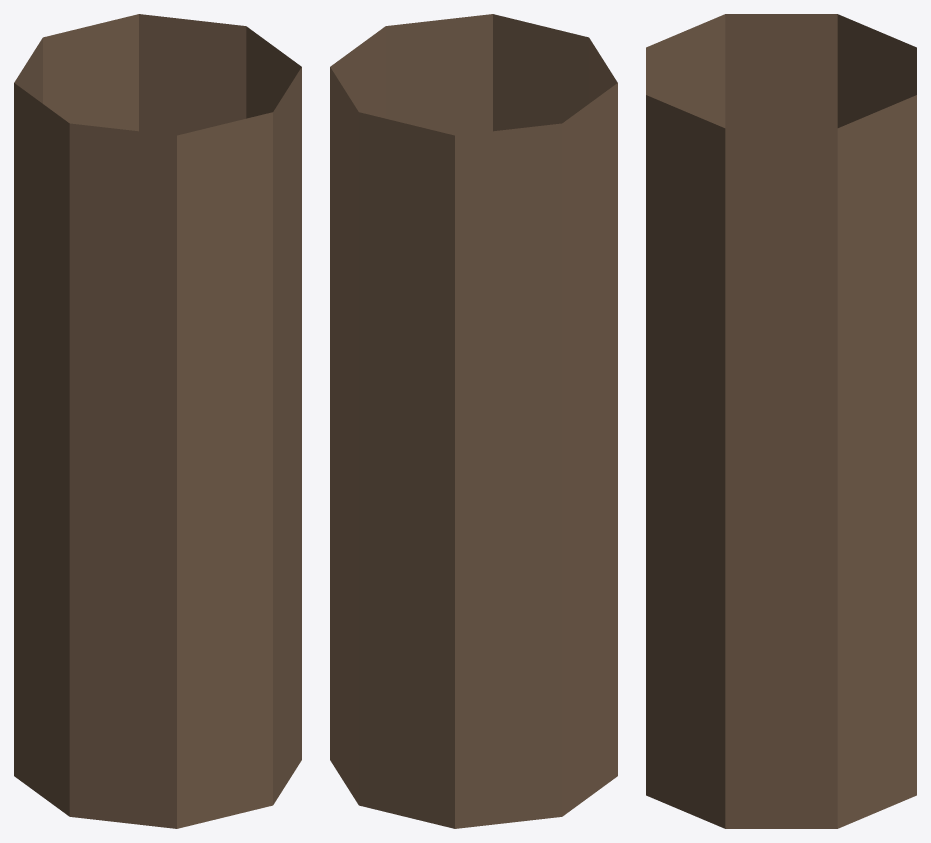
File: Hilly_Prop_Bridge_Log_Post_Top.obj
3 views of the same model, side by side, from view 1: azimuth 30°, elevation 25°; view 2: azimuth 150°, elevation 25°; view 3: azimuth 270°, elevation 25° (orthographic).
Parts seen in each view (by area): view 1: object1; view 2: object1; view 3: object1.
Part boxes in pixels (<box>): object1: <box>14,14,301,828</box>; object1: <box>330,14,617,828</box>; object1: <box>646,14,916,828</box>.
Bounding box in the file's own units: 0.2 × 0.5707 × 0.2.
